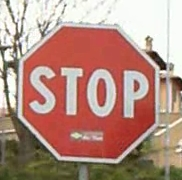stop: (15, 23, 164, 163)
